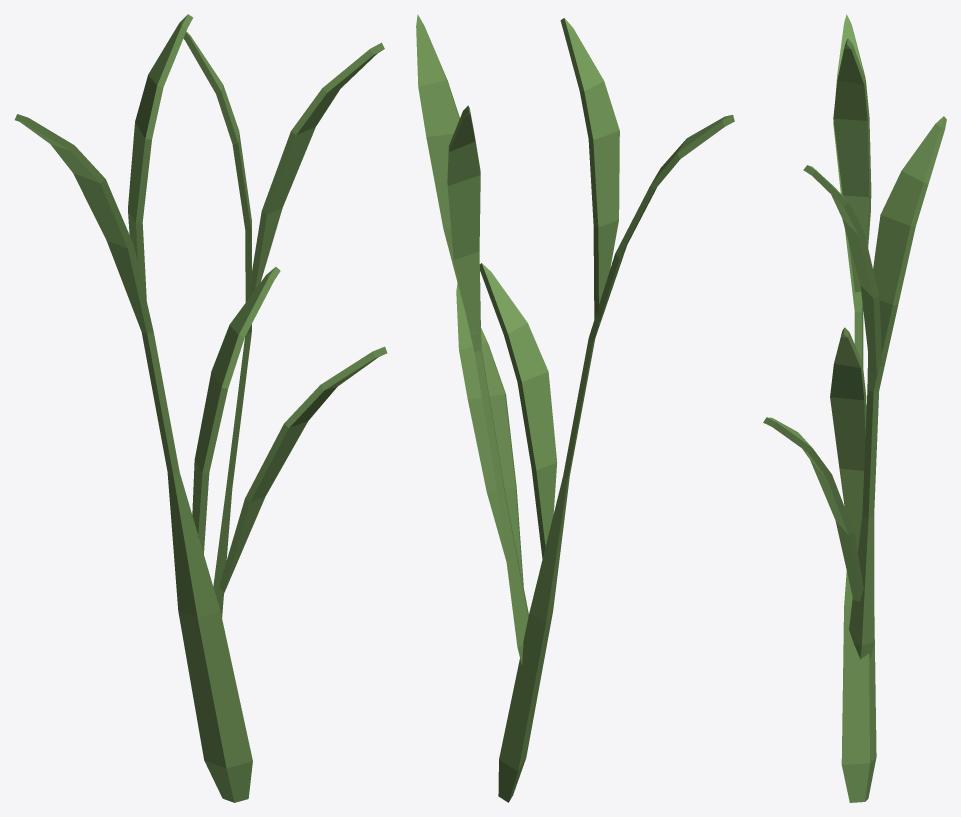
File: rice_2.gltf
3 renders of one model, left to right at view 1: azimuth 30°, elevation 25°; view 2: azimuth 150°, elevation 25°; view 3: azimuth 270°, elevation 25°, orthographic. The views are drawn at different scales.
Parts seen in each view (by area): view 1: rice_2; view 2: rice_2; view 3: rice_2.
Part boxes in pixels (x1,y1,x2,y2): rice_2: [14, 14, 387, 802]; rice_2: [416, 14, 734, 802]; rice_2: [763, 14, 946, 802].
Bounding box in the file's own units: 0.2547 × 0.5648 × 0.1272.
Materials: 1 (1 with a texture image).
